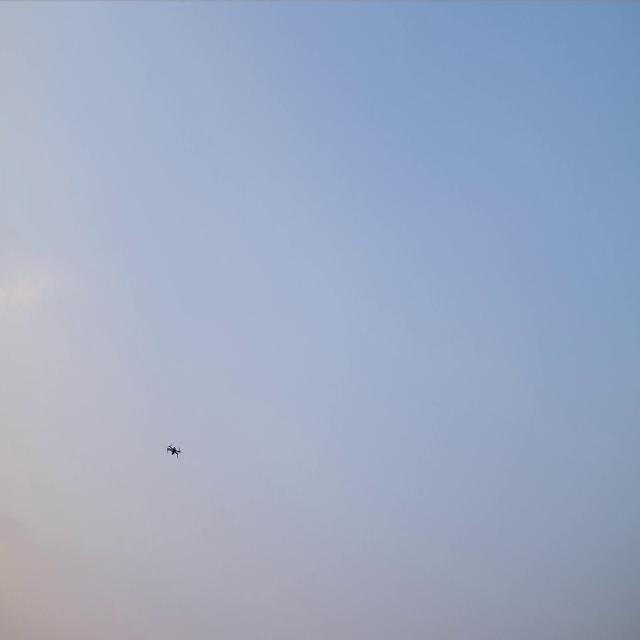UAV: (165, 443, 182, 458)
